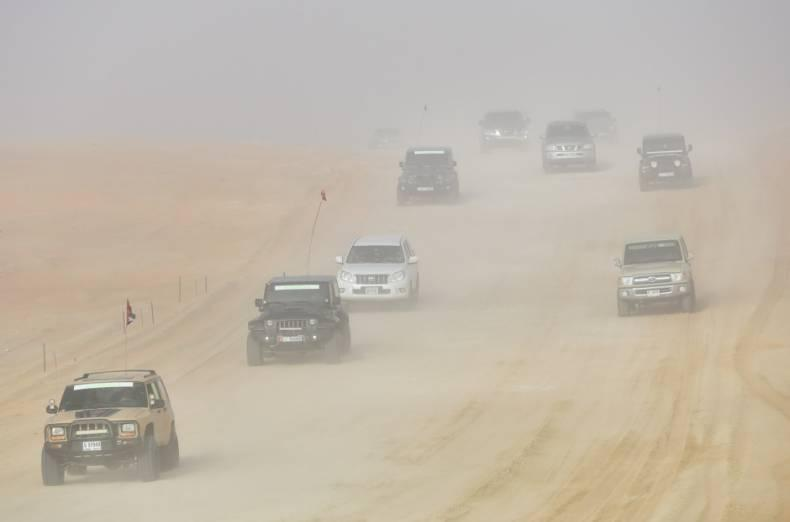airplane: (614, 235, 694, 316), (478, 111, 531, 148)
bench: (247, 272, 349, 363), (396, 147, 458, 200), (637, 131, 693, 189), (540, 121, 595, 173), (479, 111, 531, 147), (638, 132, 686, 157)
boat: (246, 271, 349, 363), (614, 235, 695, 316), (396, 147, 457, 201), (636, 132, 693, 186), (540, 119, 595, 171), (480, 110, 529, 147), (486, 126, 529, 147)
bus: (615, 235, 695, 316), (333, 233, 418, 302), (637, 132, 694, 189), (396, 147, 457, 200), (540, 119, 595, 171), (479, 110, 529, 148)
car: (51, 251, 789, 501), (311, 164, 708, 313), (311, 227, 569, 317), (40, 367, 178, 483), (245, 270, 348, 364), (554, 126, 683, 182), (615, 233, 695, 316), (334, 232, 419, 303), (531, 123, 638, 175), (54, 369, 170, 416), (483, 110, 581, 163), (261, 273, 344, 323), (467, 106, 535, 161), (396, 147, 458, 201), (637, 133, 693, 189), (540, 120, 595, 171), (638, 160, 696, 192), (479, 111, 531, 146), (637, 129, 687, 163), (414, 159, 458, 196), (635, 147, 677, 183), (576, 114, 617, 144), (644, 156, 689, 180), (480, 124, 517, 148), (483, 131, 528, 150)
cell phone: (615, 232, 695, 316)
chair: (396, 147, 459, 200), (637, 131, 693, 189), (638, 132, 687, 156)
kite: (302, 189, 329, 273), (311, 190, 327, 242), (123, 300, 134, 327)
motorcycle: (244, 278, 344, 363), (637, 137, 694, 190)
person: (247, 272, 349, 363), (334, 232, 413, 301), (637, 134, 688, 189), (543, 119, 595, 170), (478, 111, 531, 147), (60, 385, 112, 411), (436, 156, 458, 198), (121, 383, 144, 404), (445, 159, 458, 196), (111, 386, 135, 404), (86, 389, 108, 407), (103, 386, 125, 403), (123, 299, 134, 326)
skis: (291, 189, 329, 276)
suitcase: (244, 278, 344, 363), (637, 132, 692, 189)
toaster: (615, 233, 695, 315)
traffic light: (123, 300, 134, 327)
train: (244, 278, 344, 363), (478, 111, 531, 148)
truck: (40, 372, 177, 484), (258, 205, 339, 341), (245, 271, 347, 362), (615, 235, 695, 316), (333, 232, 416, 304), (483, 110, 581, 163), (261, 273, 344, 323), (397, 147, 458, 200), (637, 132, 693, 188), (540, 120, 595, 171), (479, 110, 529, 148), (637, 129, 687, 163), (414, 159, 458, 196), (640, 153, 692, 183), (403, 147, 453, 176), (575, 109, 615, 141), (486, 126, 529, 147)
tv: (616, 234, 696, 315)
